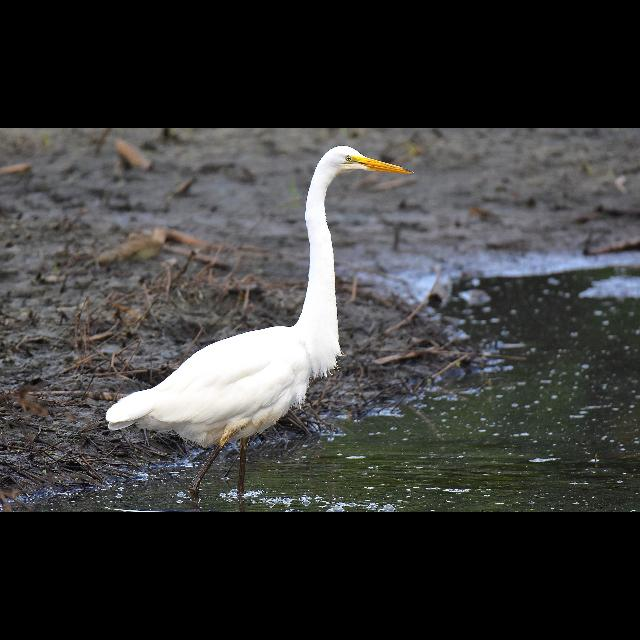egret: (106, 140, 414, 512)
